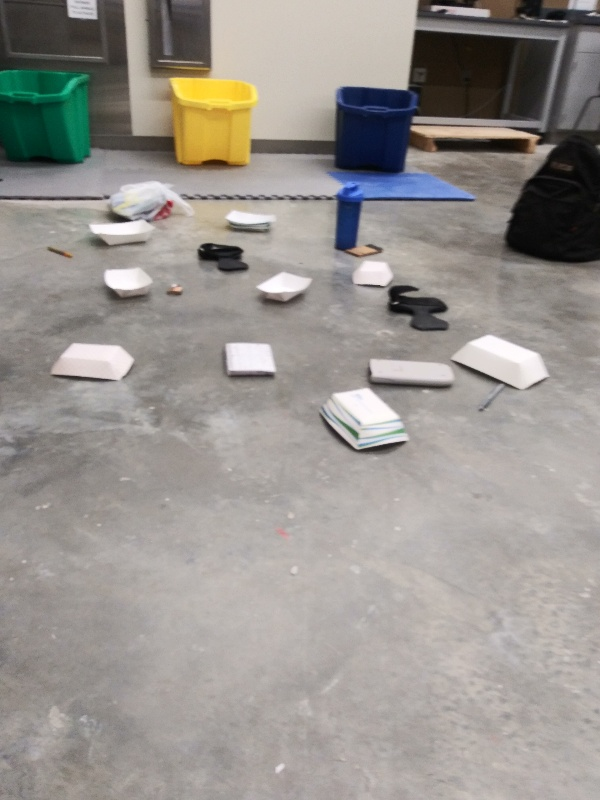plate: (316, 383, 414, 456), (446, 329, 554, 394), (43, 339, 139, 387), (251, 269, 319, 306), (86, 215, 159, 249), (100, 263, 157, 303), (221, 206, 282, 238), (350, 255, 396, 291)
